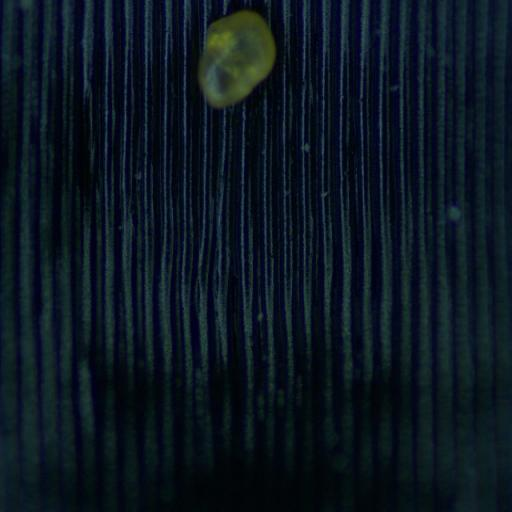mineral: (198, 11, 274, 108)
